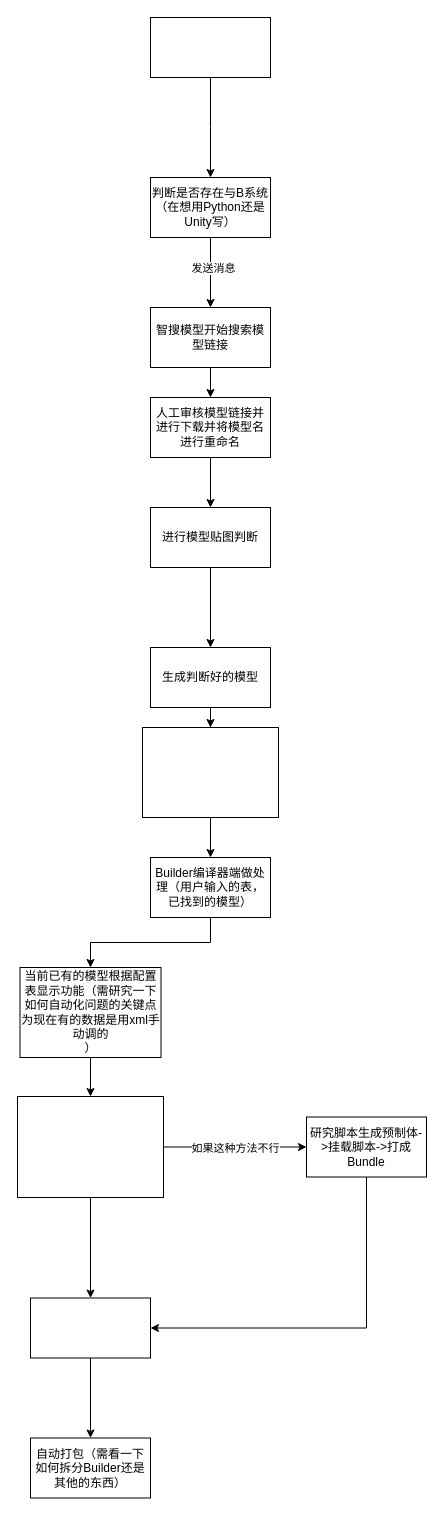
This 444x1516 diagram has some shape labels left out. The centre of each missing label's shape, as x and y in pixels:
"将后下载的模型放到指定位置并将用户输入的模型传入到Unity中（人工还是自动，自动费劲，需要将所有数据都进行传输）" goes at (x=210, y=772).
"将新增的模型配置数据关键点还是自动化的转换数据" goes at (x=90, y=1327).
"没有的模型需探索一下使用当前自动导入模型功能（看了一下在工程中的效果觉得实现的难度为最低）" goes at (x=90, y=1147).
"用户输入模型列表（后面敲定）" goes at (x=210, y=47).
